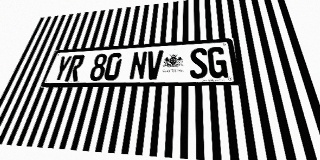0: (103, 52, 123, 81)
8: (88, 53, 109, 81)
G: (207, 46, 228, 78)
N: (128, 51, 148, 80)
R: (64, 55, 85, 81)
S: (190, 48, 208, 79)
V: (145, 50, 163, 80)
Y: (51, 55, 73, 82)
